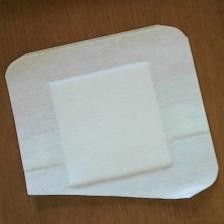Cut: (5, 22, 223, 210)
